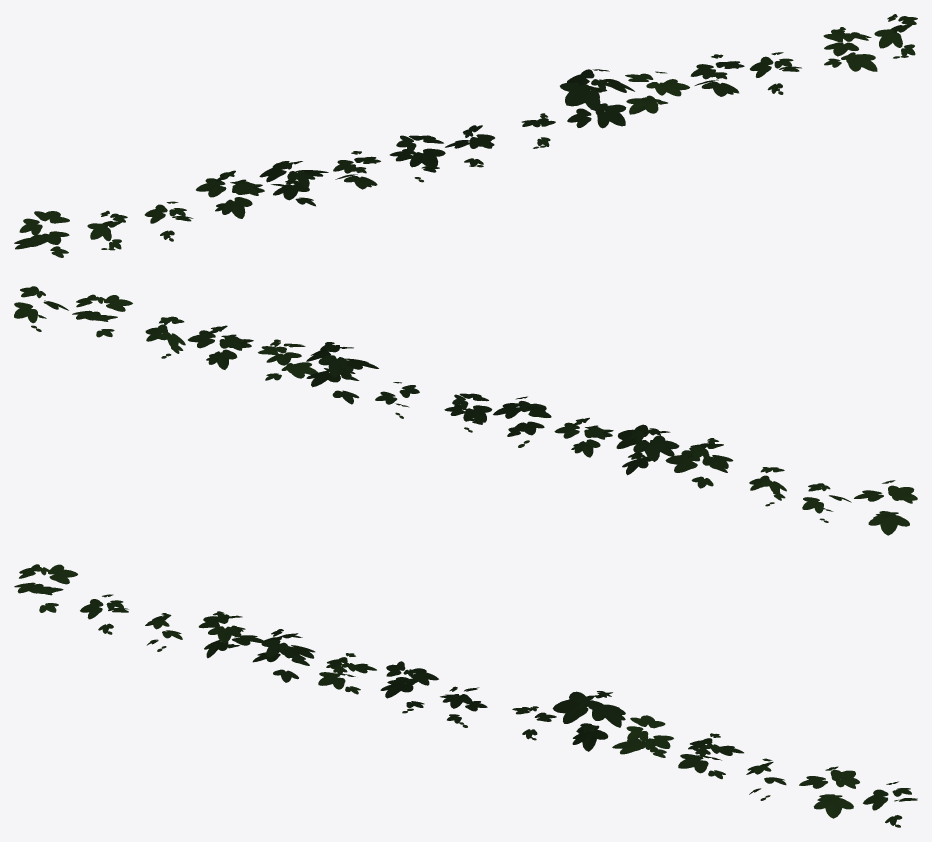
File: ROW_18_SEG2_foliage.dae
3 renders of one model, top to bottom at view 1: azimuth 30°, elevation 25°; view 2: azimuth 150°, elevation 25°; view 3: azimuth 330°, elevation 25°, orthographic.
Parts seen in each view (by area): view 1: ROW_18_SEG2_foliage; view 2: ROW_18_SEG2_foliage; view 3: ROW_18_SEG2_foliage.
Boxes of the visible parts, x1,y1,x2,y2 form: ROW_18_SEG2_foliage: [14, 14, 917, 257]; ROW_18_SEG2_foliage: [14, 286, 917, 535]; ROW_18_SEG2_foliage: [14, 564, 917, 827].
Bounding box in the file's own units: 4.51 × 0.3838 × 0.2911.
